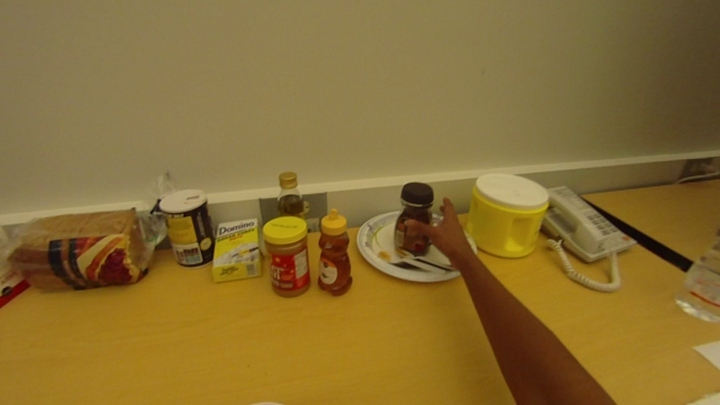hand: (406, 198, 468, 255)
